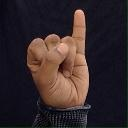hand: (26, 8, 89, 108)
